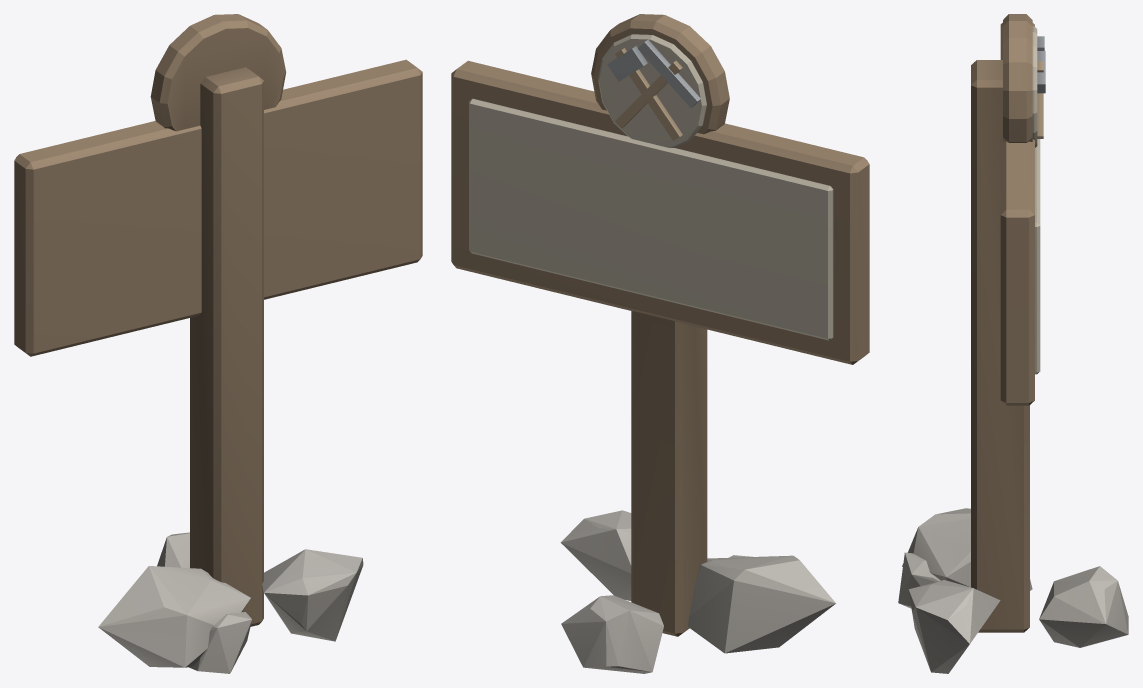
File: sign_quarry.glb
3 views of the same model, side by side, from view 1: azimuth 30°, elevation 25°; view 2: azimuth 150°, elevation 25°; view 3: azimuth 270°, elevation 25° (orthographic). The views are drawn at different scales.
Bounding box in the file's own units: 0.94 × 1.38 × 0.4688.
